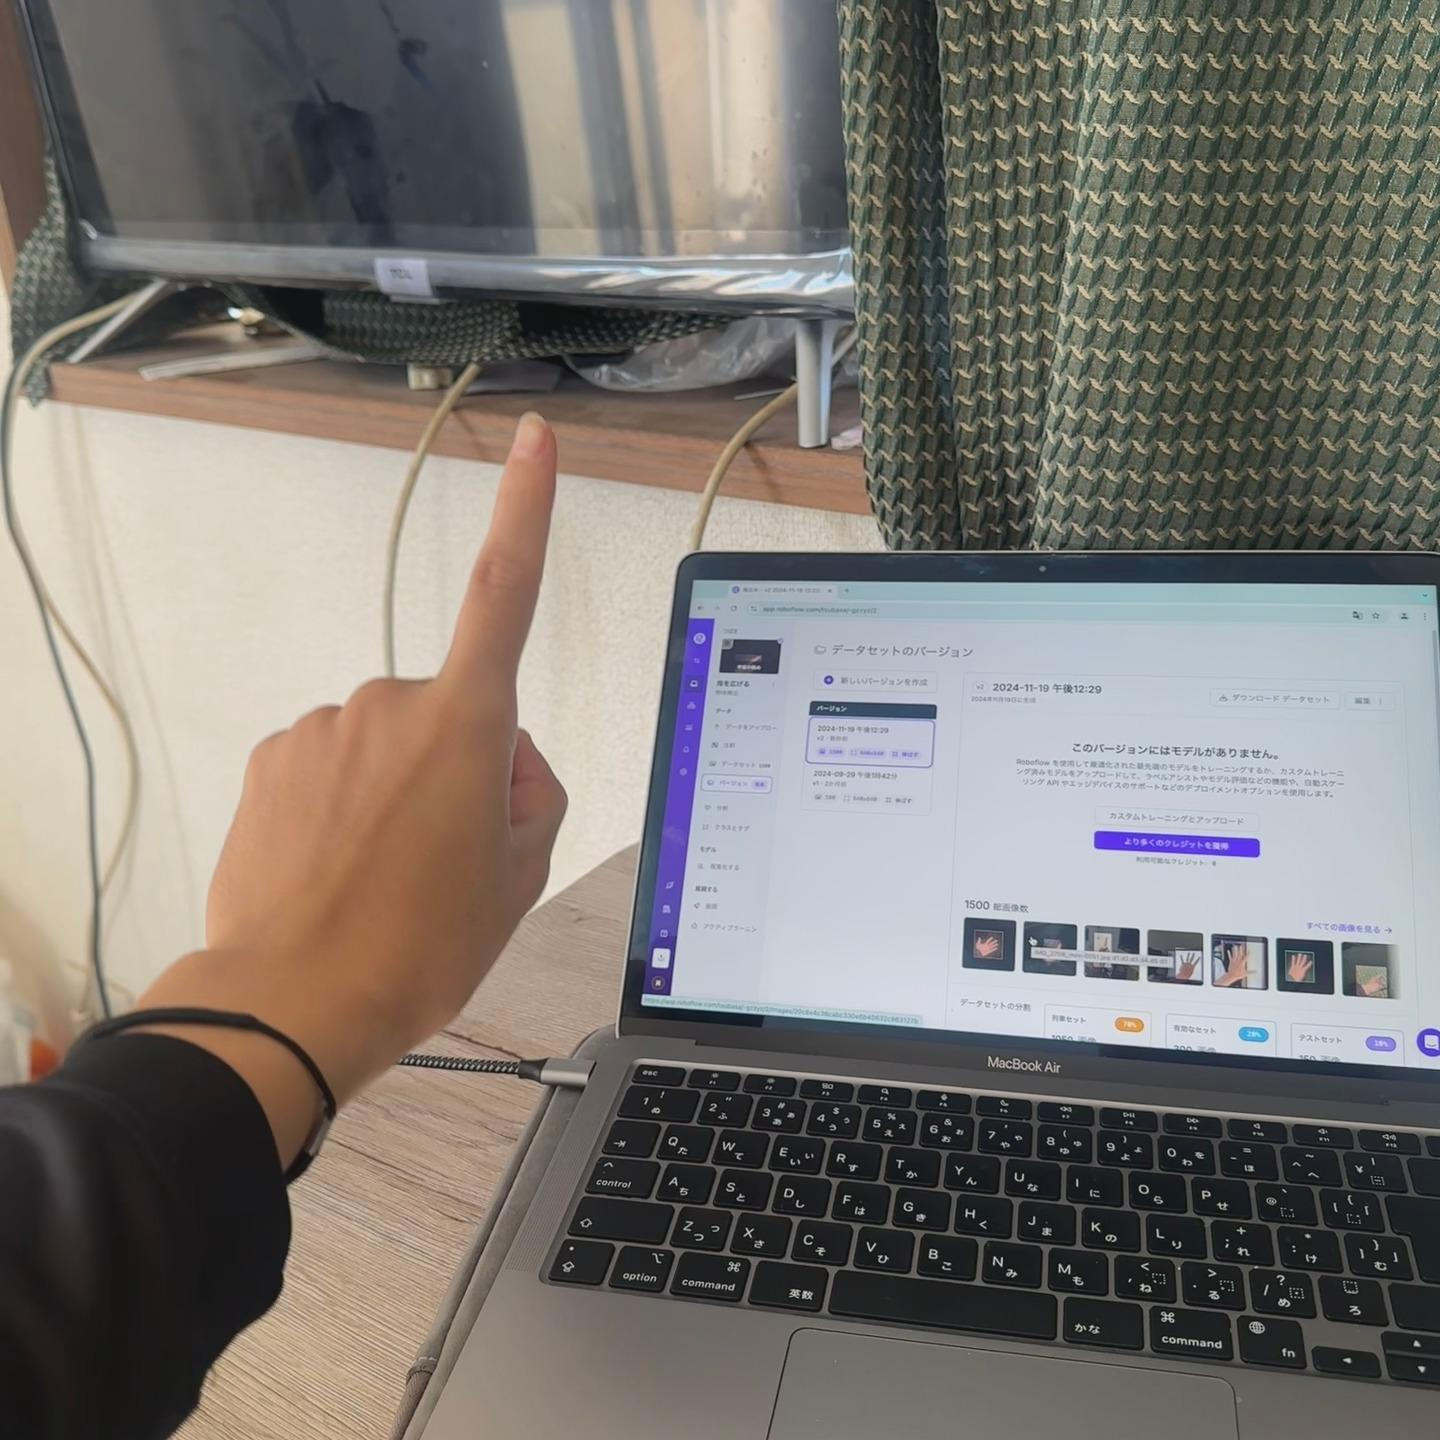without_gloves: (145, 258, 782, 1189)
